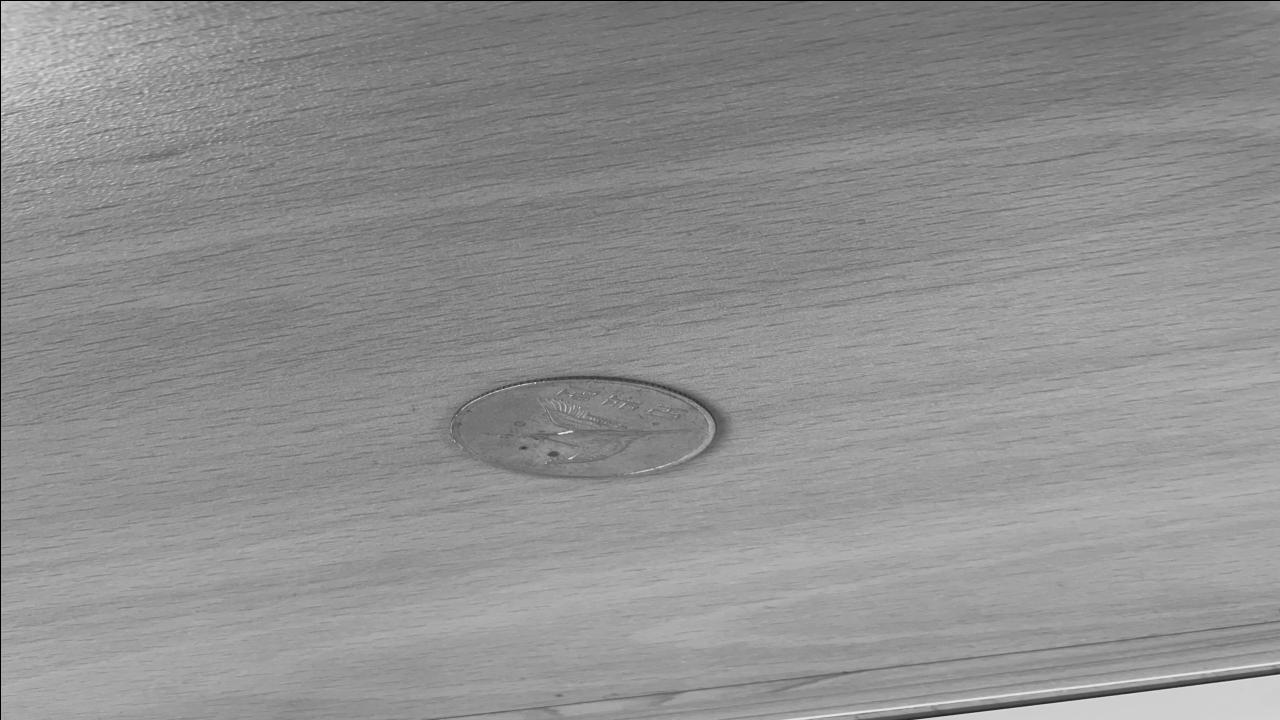coin: (438, 376, 726, 483)
